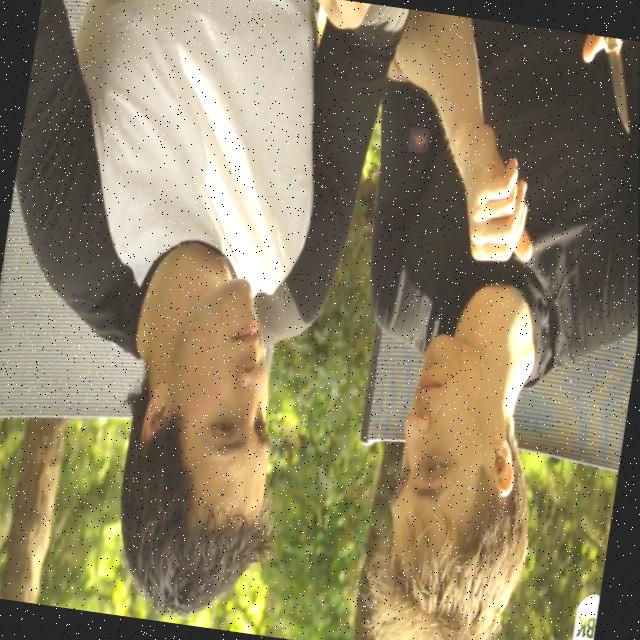knife: (575, 35, 640, 137)
